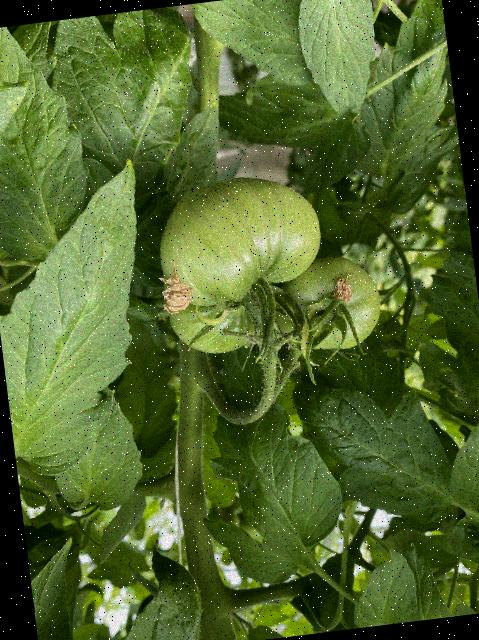b_green: (150, 168, 333, 360), (263, 250, 385, 358)
